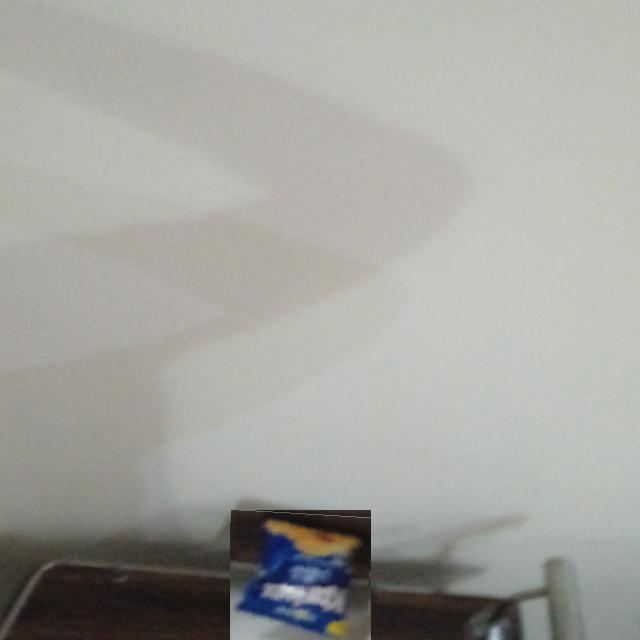Plastic: (230, 509, 371, 640)
